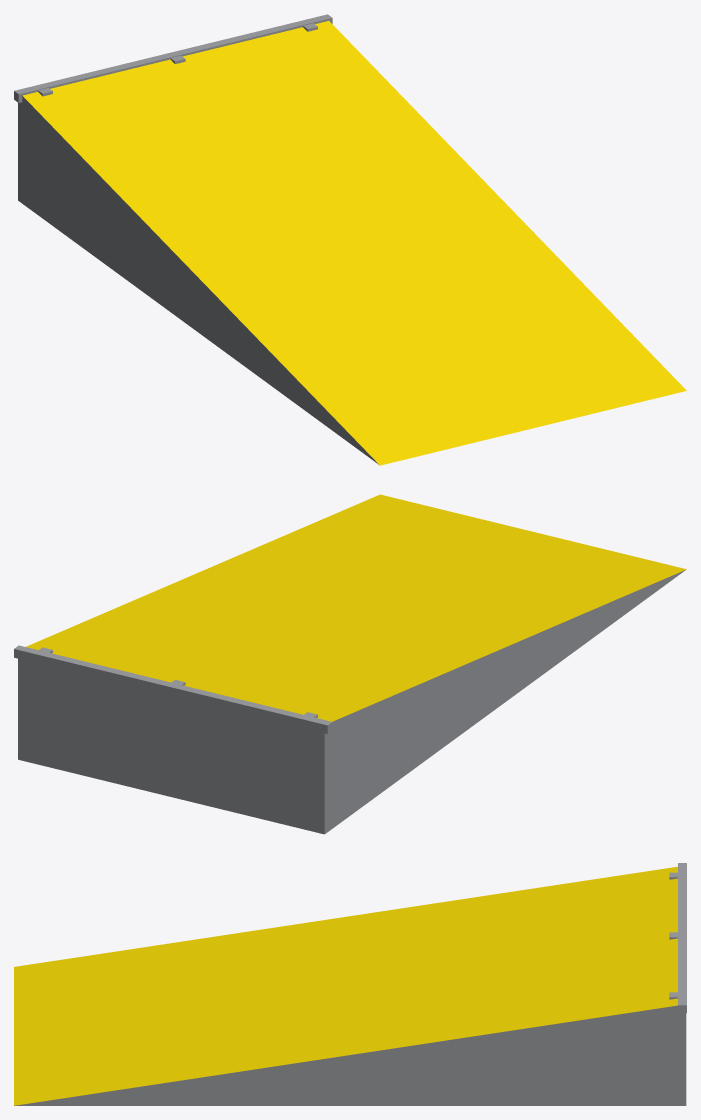
Rendered from ramp.glb.
The picture shows the model from 3 angles, top to bottom: view 1: azimuth 30°, elevation 25°; view 2: azimuth 150°, elevation 25°; view 3: azimuth 270°, elevation 25°; orthographic projection. The views are drawn at different scales.
Visible parts, largest first — view 1: Ramp; view 2: Ramp; view 3: Ramp.
Boxes of the visible parts, x1=… form: Ramp: x1=14, y1=14, x2=686, y2=465; Ramp: x1=14, y1=494, x2=686, y2=834; Ramp: x1=14, y1=863, x2=686, y2=1105.
Size of the model in its own units: 4.5 by 1.51 by 9.01.
